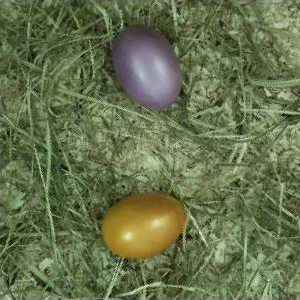egg: (112, 26, 184, 112), (100, 193, 187, 260)
